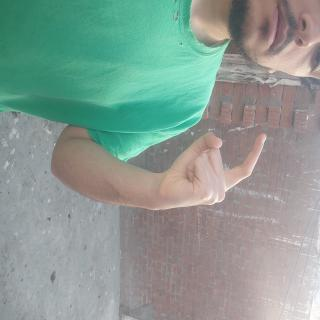RAA: (96, 68, 162, 229)
